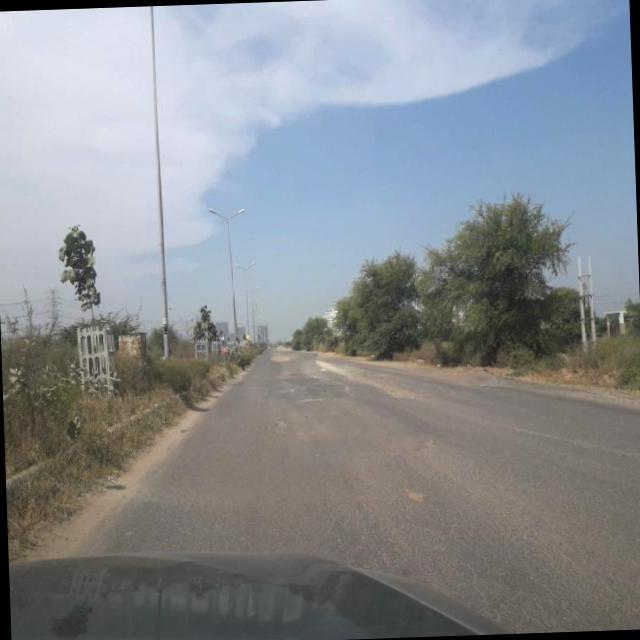crack: (340, 492, 638, 636)
pothole: (326, 358, 421, 406), (404, 469, 434, 509), (268, 404, 298, 444)
